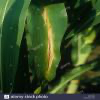Corn leaf blight: (27, 4, 66, 89)
